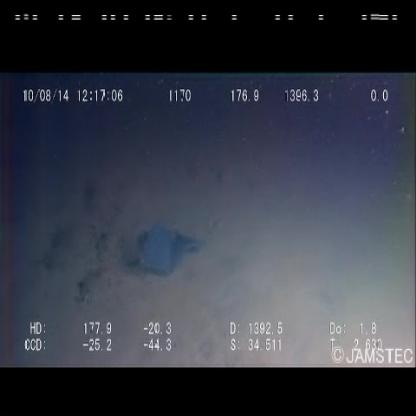Rác: (131, 218, 205, 278)
